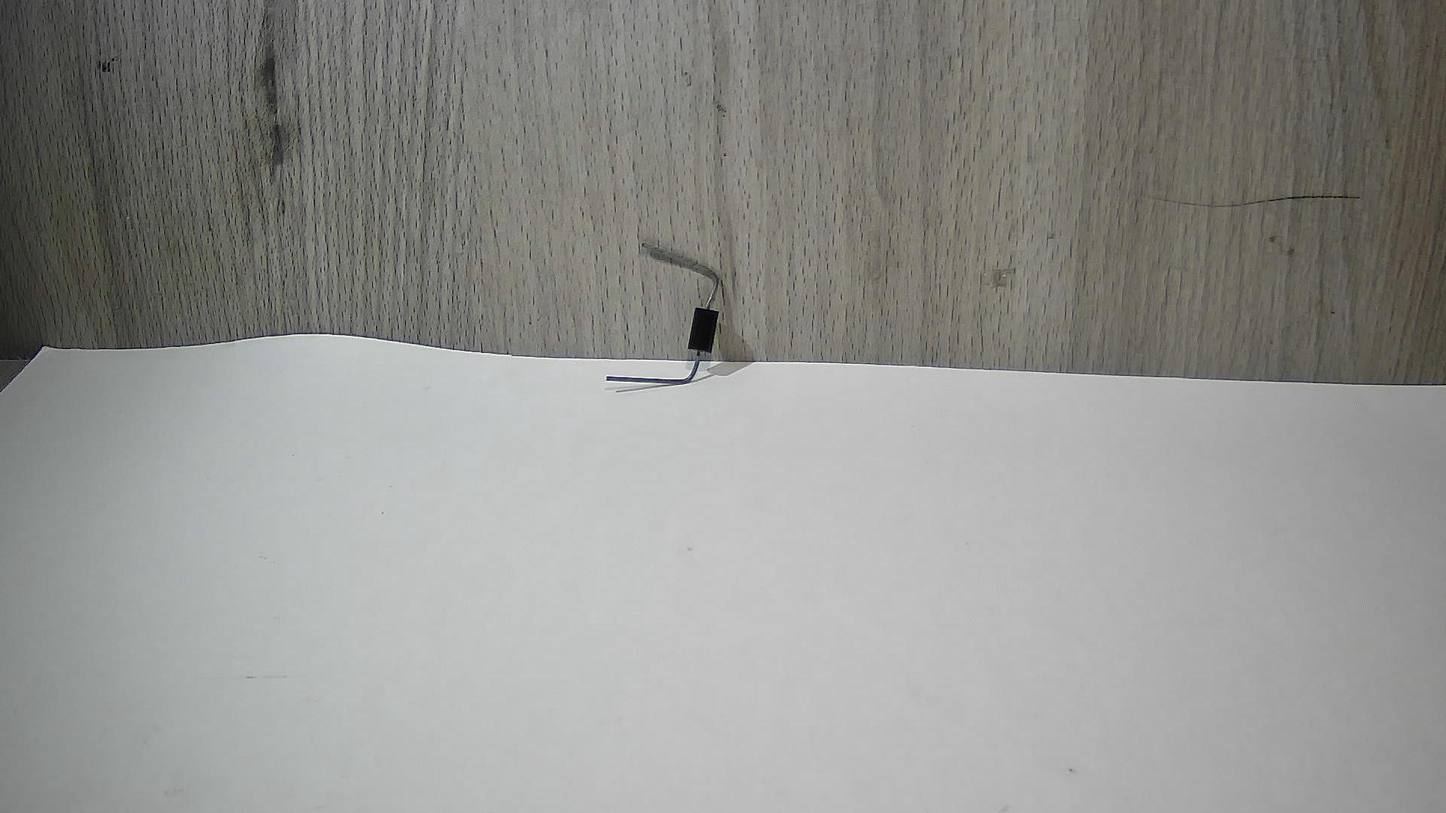Diodo: (580, 201, 771, 422)
